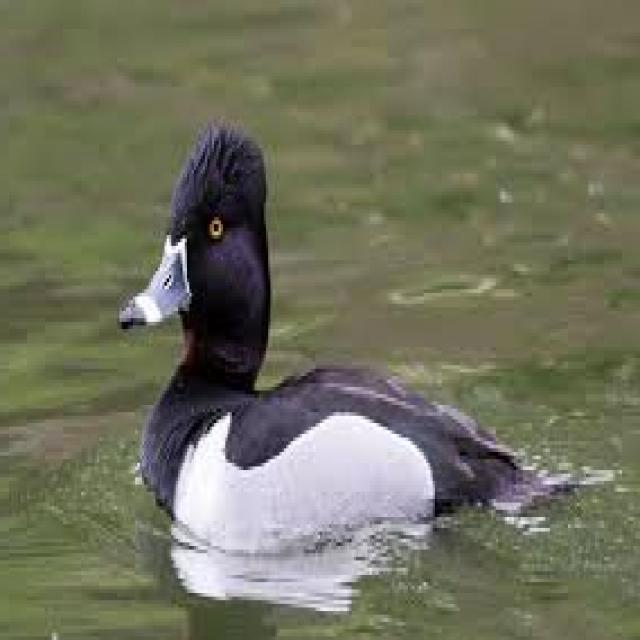duck: (122, 127, 550, 550)
